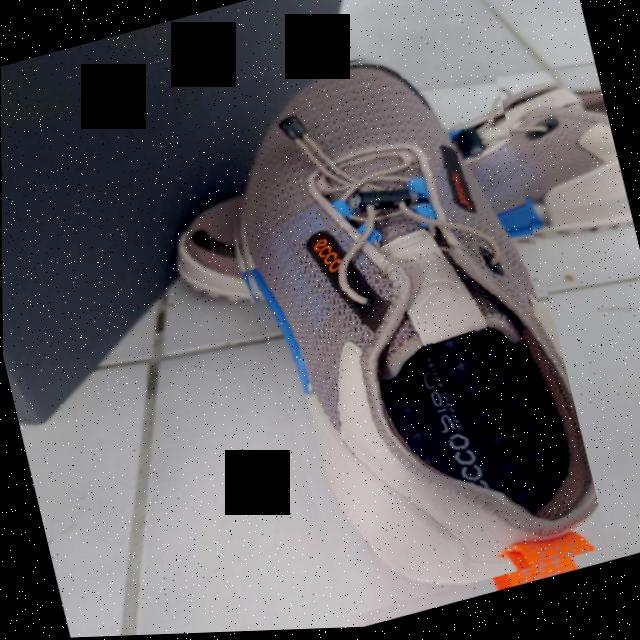shoe: (195, 23, 608, 630)
